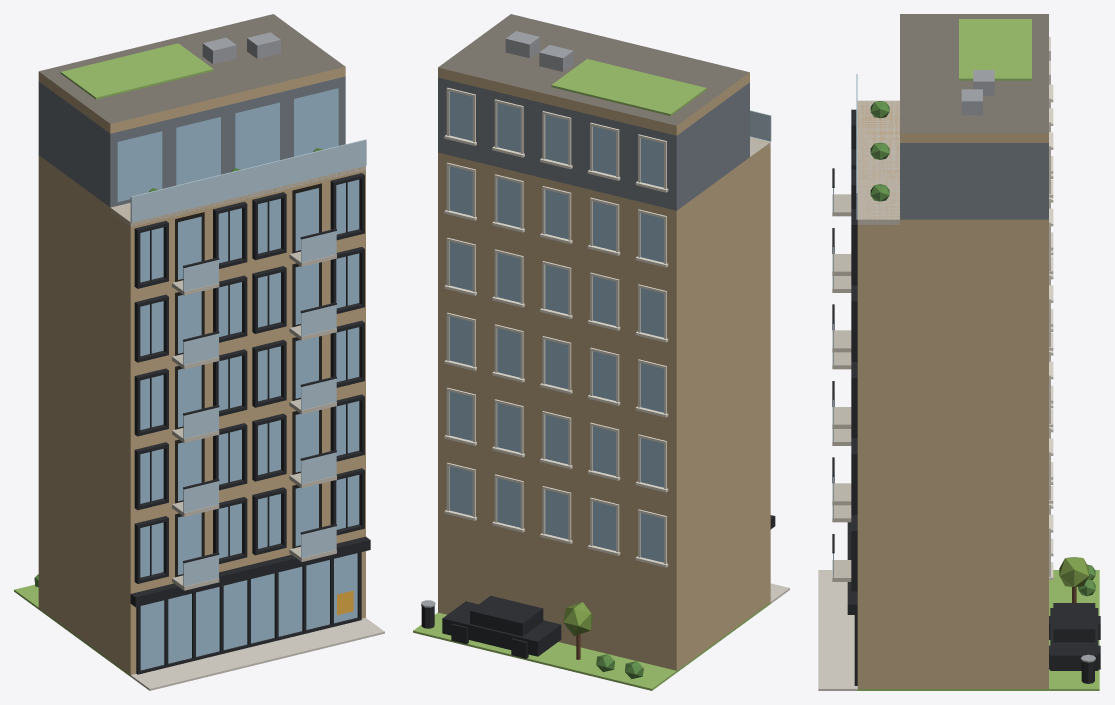
Rendered from Blok_duz_7k_5_Hafif.fbx.
The picture shows the model from 3 angles, left to right: view 1: azimuth 30°, elevation 25°; view 2: azimuth 150°, elevation 25°; view 3: azimuth 270°, elevation 25°; orthographic projection. The views are drawn at different scales.
Visible parts, largest first — view 1: Blok_duz_7k_5_Hafif; view 2: Blok_duz_7k_5_Hafif; view 3: Blok_duz_7k_5_Hafif.
Part boxes in pixels (x1,y1,x2,y2): Blok_duz_7k_5_Hafif: [14, 14, 384, 690]; Blok_duz_7k_5_Hafif: [413, 14, 789, 690]; Blok_duz_7k_5_Hafif: [818, 14, 1100, 690].
Bounding box in the file's own units: 10 × 22.43 × 10.04.
